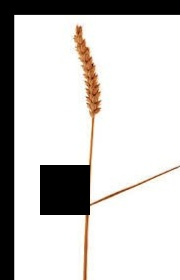wheat: (71, 22, 103, 127)
